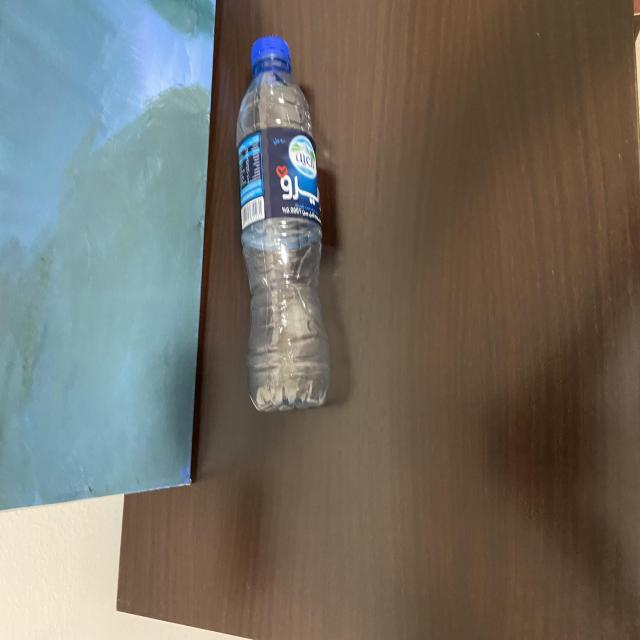plastic: (232, 29, 333, 418)
